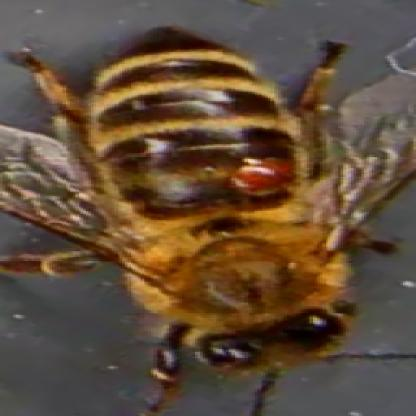bee: (90, 11, 354, 370)
vaoora: (234, 163, 290, 193)
